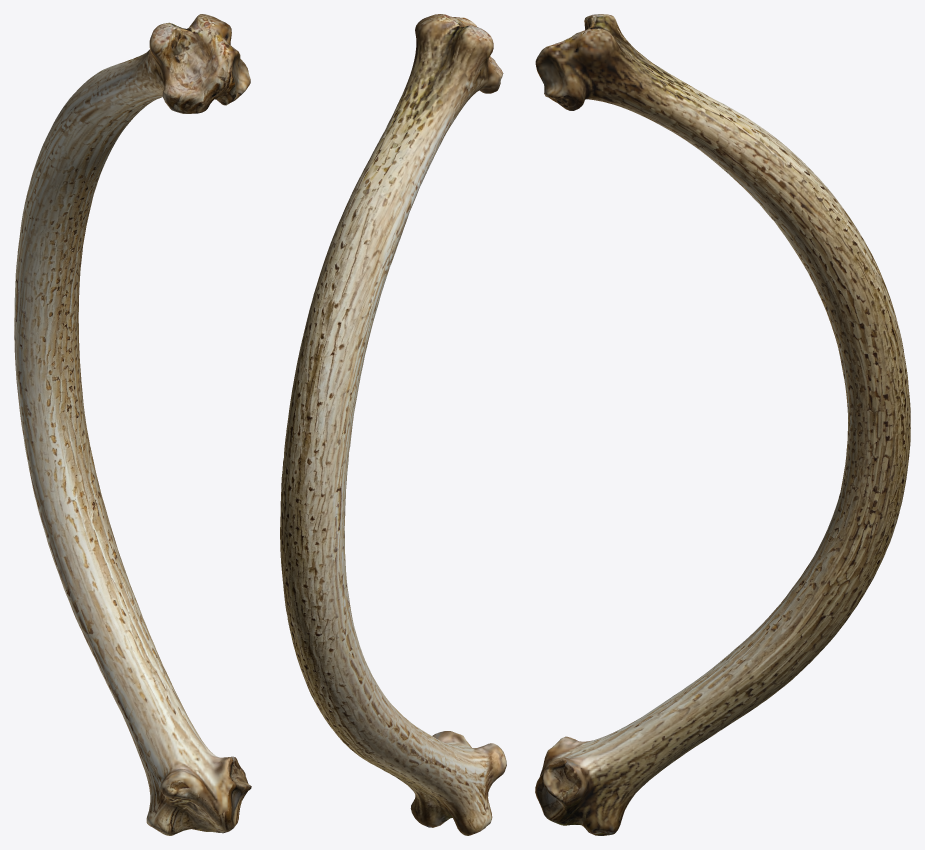
File: Boomerang.fbx
The picture shows the model from 3 angles, left to right: view 1: azimuth 30°, elevation 25°; view 2: azimuth 150°, elevation 25°; view 3: azimuth 270°, elevation 25°; orthographic projection.
Visible parts, largest first — view 1: texture_mapping; view 2: texture_mapping; view 3: texture_mapping.
Part boxes in pixels (x1,y1,x2,y2): texture_mapping: [14, 14, 251, 835]; texture_mapping: [280, 14, 506, 835]; texture_mapping: [535, 14, 910, 835].
Size of the model in its own units: 0.1116 by 0.424 by 1.
Materials: 1 (1 with a texture image).
